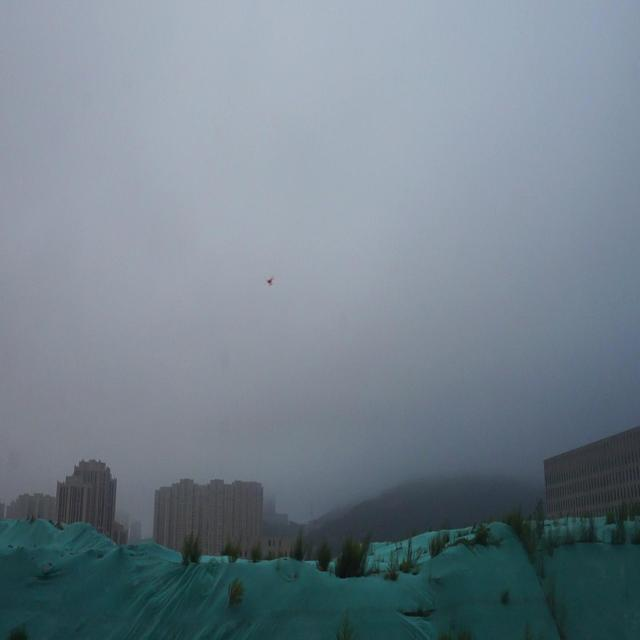drone: (265, 274, 275, 288)
